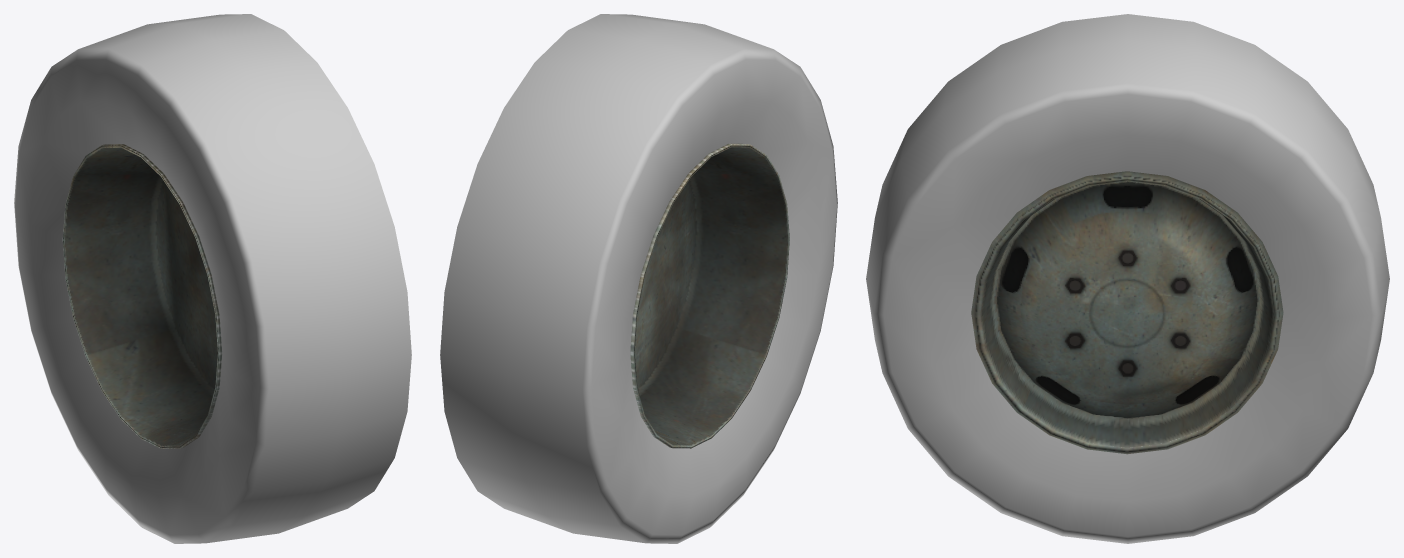
The model's file is reifen_links.fbx.
The picture shows the model from 3 angles, left to right: view 1: azimuth 30°, elevation 25°; view 2: azimuth 150°, elevation 25°; view 3: azimuth 270°, elevation 25°; orthographic projection.
Parts seen in each view (by area): view 1: Mesh; view 2: Mesh; view 3: Mesh.
Boxes of the visible parts, box(x1,y1,x2,y2) form: Mesh: box(14, 14, 411, 543); Mesh: box(440, 14, 837, 543); Mesh: box(866, 14, 1389, 543).
Bounding box in the file's own units: 22.8 × 63.95 × 63.95.
